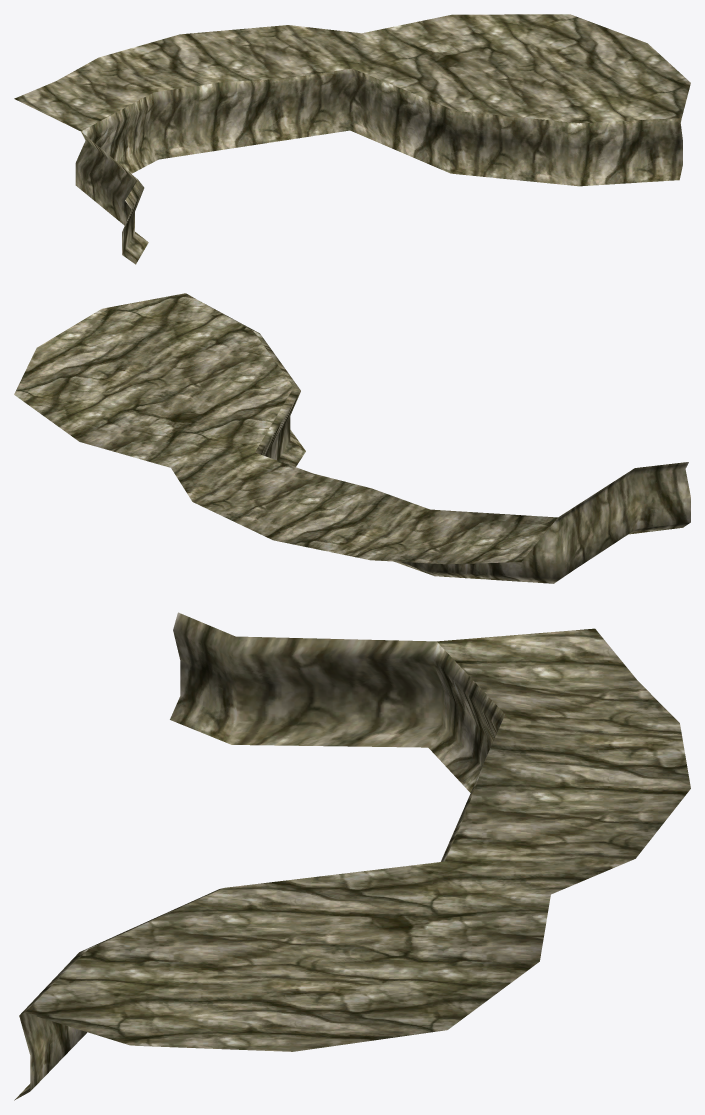
Rendered from CB_NEWPLAYSURFACE_CB_PLAYSURFACE115.fbx.
The picture shows the model from 3 angles, top to bottom: view 1: azimuth 30°, elevation 25°; view 2: azimuth 150°, elevation 25°; view 3: azimuth 270°, elevation 25°; orthographic projection. The views are drawn at different scales.
Visible parts, largest first — view 1: CB_NEWPLAYSURFACE_CB_PLAYSURFACE115; view 2: CB_NEWPLAYSURFACE_CB_PLAYSURFACE115; view 3: CB_NEWPLAYSURFACE_CB_PLAYSURFACE115.
Part boxes in pixels (x1,y1,x2,y2): CB_NEWPLAYSURFACE_CB_PLAYSURFACE115: (14, 14, 690, 264); CB_NEWPLAYSURFACE_CB_PLAYSURFACE115: (14, 293, 690, 583); CB_NEWPLAYSURFACE_CB_PLAYSURFACE115: (14, 612, 690, 1100).
Bounding box in the file's own units: 270902 × 29558 × 179257.
Materials: 2 (2 with a texture image).
